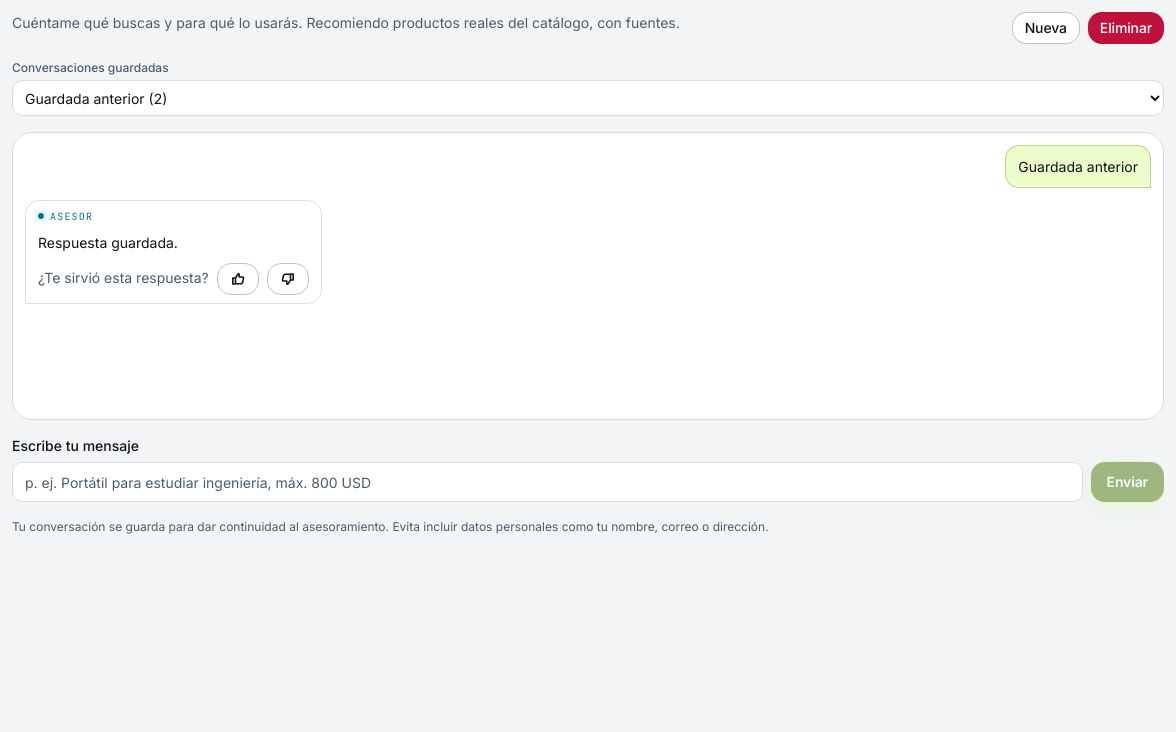
Test case: AdvisorChat › deletes the current conversation and shows the next surviving one
Expected: the text "Guardada anterior" is shown, [1018, 158, 1138, 175]
Click the button "Nueva". click: point(1046, 28)
box: [1012, 12, 1080, 44]
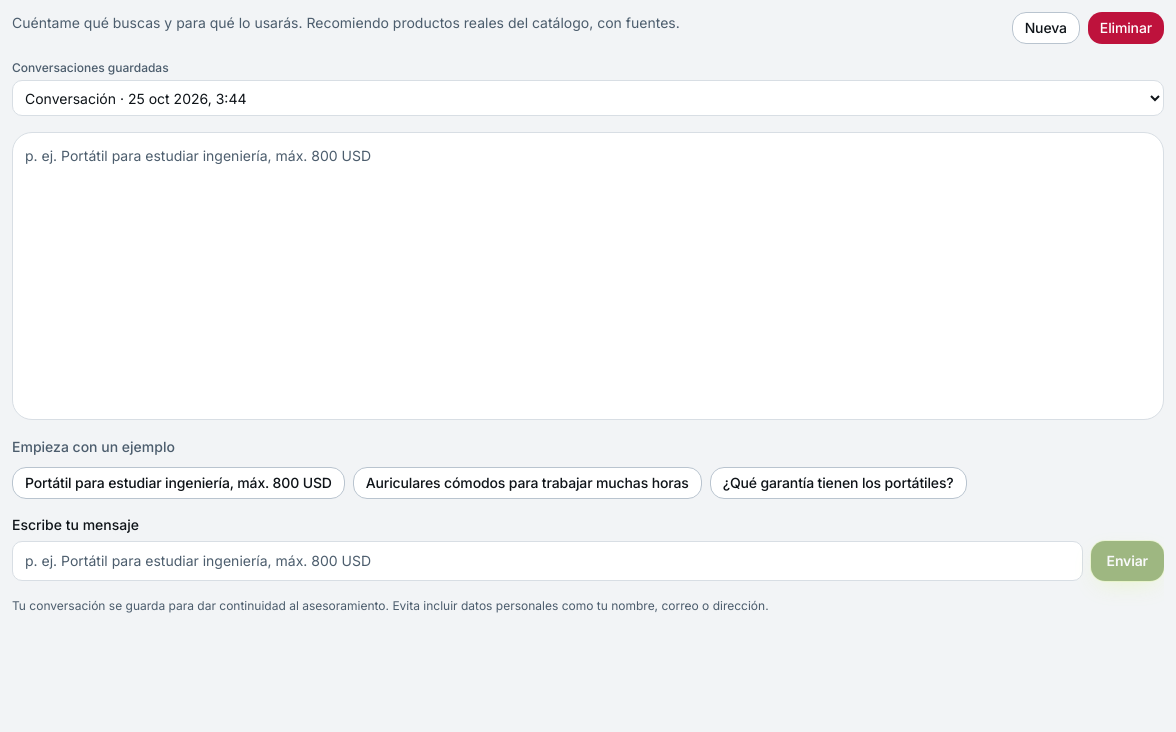
Expected: the text "Guardada anterior" is gone
// Two-step delete: request, then confirm.
Click the button "Eliminar". click: point(1126, 28)
box: [1088, 12, 1164, 44]
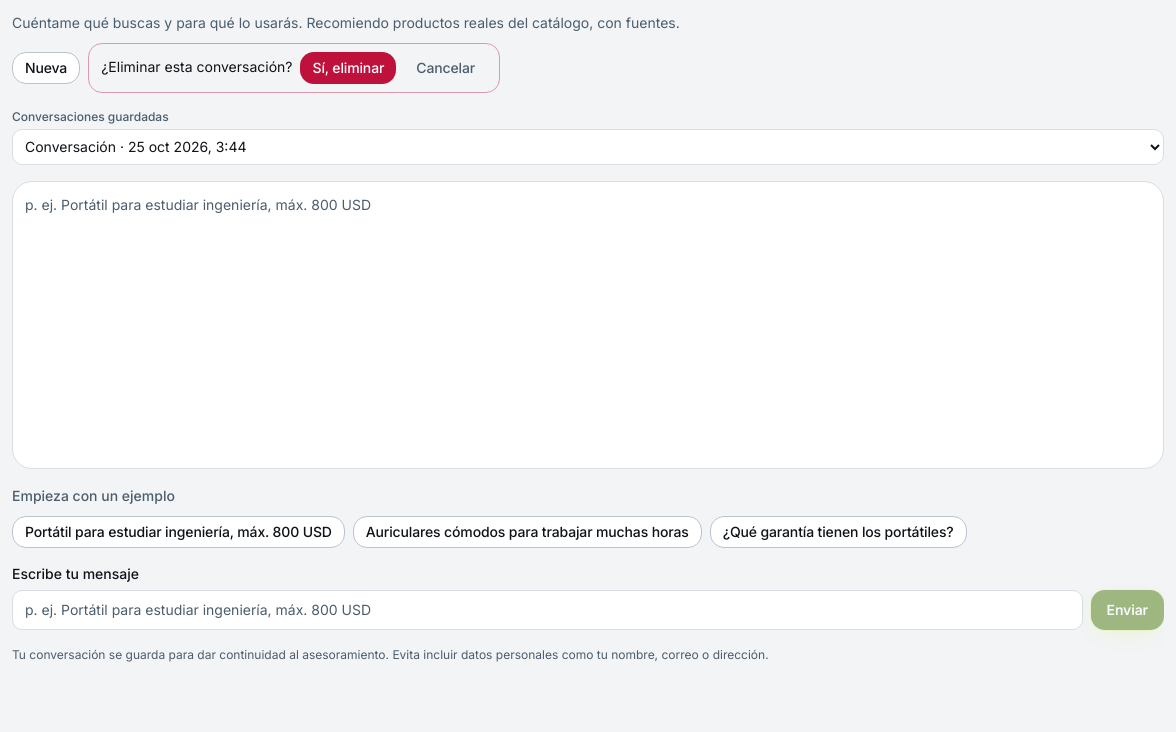
Expected: the text "¿Eliminar esta conversación?" is shown, [101, 56, 292, 79]
Click the button "Sí, eliminar". click: point(348, 68)
box: [300, 52, 396, 84]
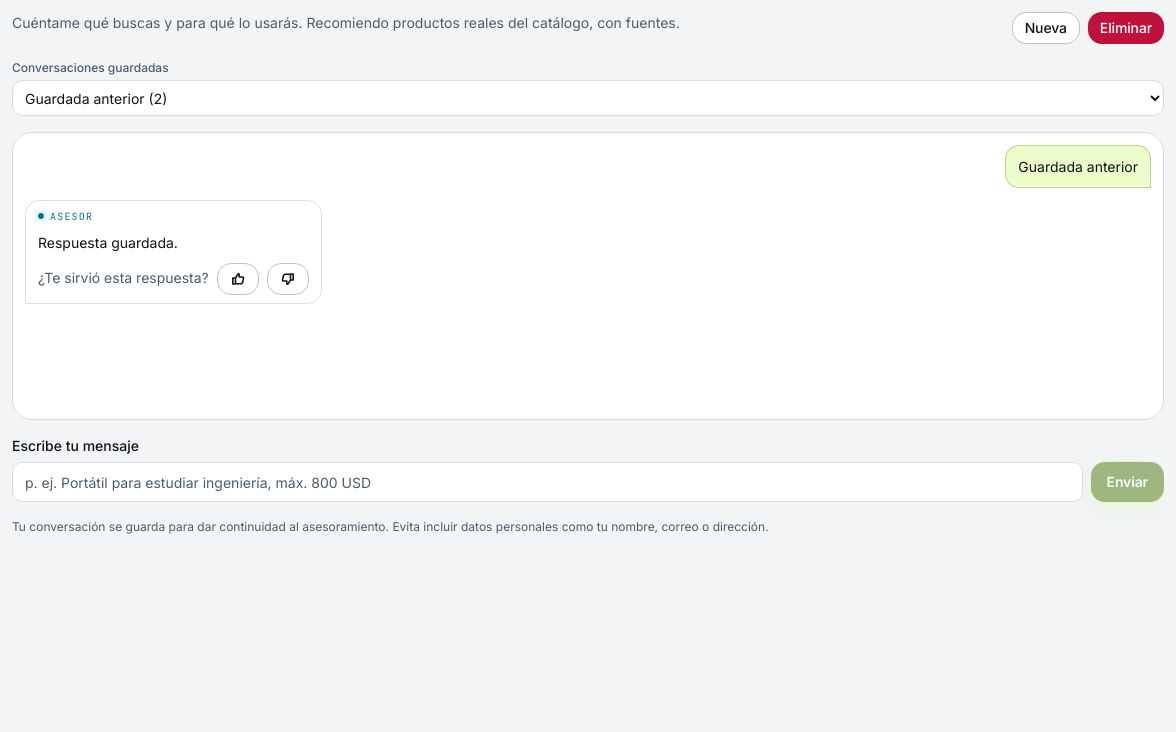
Expected: the text "Guardada anterior" is shown, [1018, 158, 1138, 175]
Expected: the text "Respuesta guardada." is shown, [38, 234, 178, 251]
